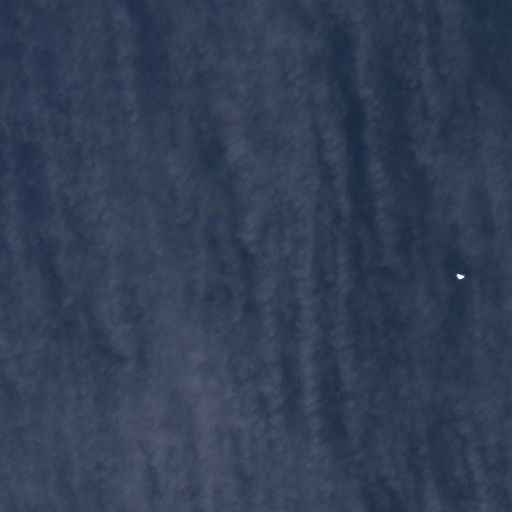Iceberg: (456, 273, 464, 279)
